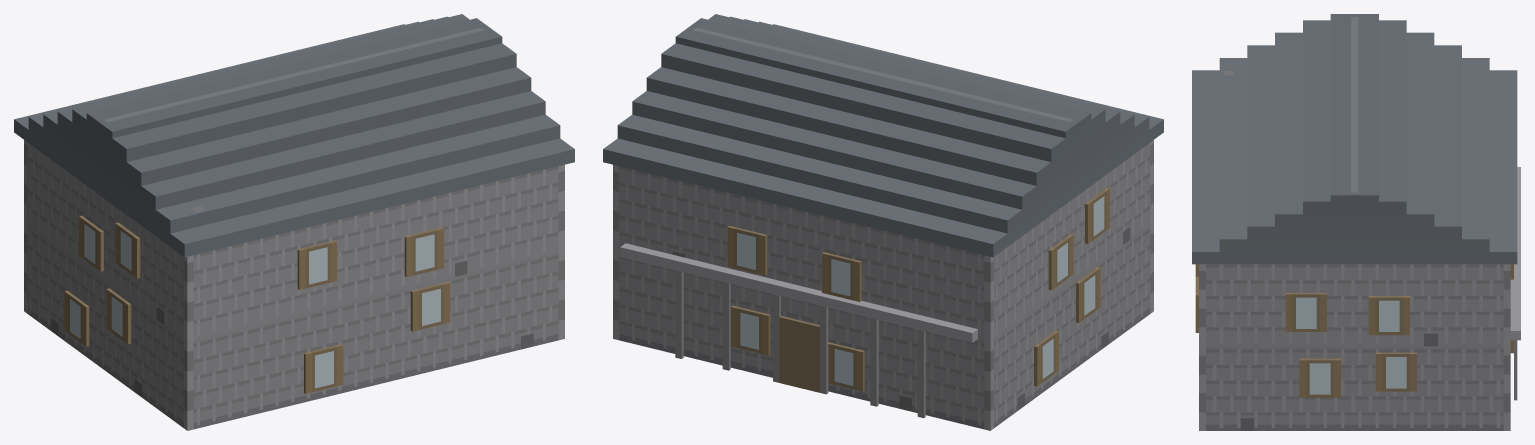
File: joyeria_01.glb
3 views of the same model, side by side, from view 1: azimuth 30°, elevation 25°; view 2: azimuth 150°, elevation 25°; view 3: azimuth 270°, elevation 25° (orthographic). The views are drawn at different scales.
Parts seen in each view (by area): view 1: joyeria_01; view 2: joyeria_01; view 3: joyeria_01.
Boxes of the visible parts, x1=… form: joyeria_01: x1=14, y1=14, x2=574, y2=430; joyeria_01: x1=603, y1=14, x2=1163, y2=430; joyeria_01: x1=1192, y1=14, x2=1520, y2=430.
Size of the model in its own units: 12.4 by 7.6 by 9.5.
